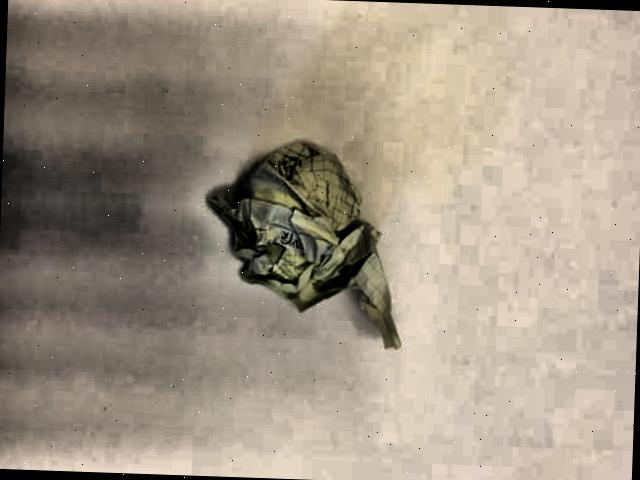Paper: (194, 126, 423, 370)
